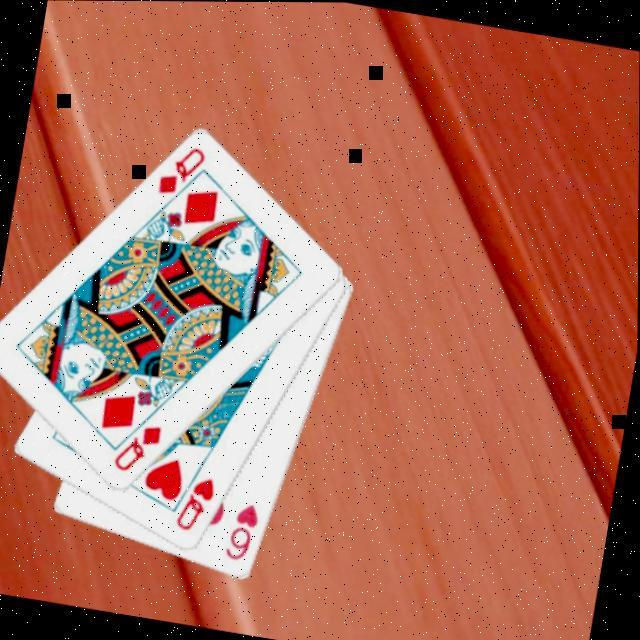6H: (220, 499, 264, 568)
QD: (152, 141, 208, 206), (108, 418, 164, 482)
QH: (170, 472, 219, 539)
